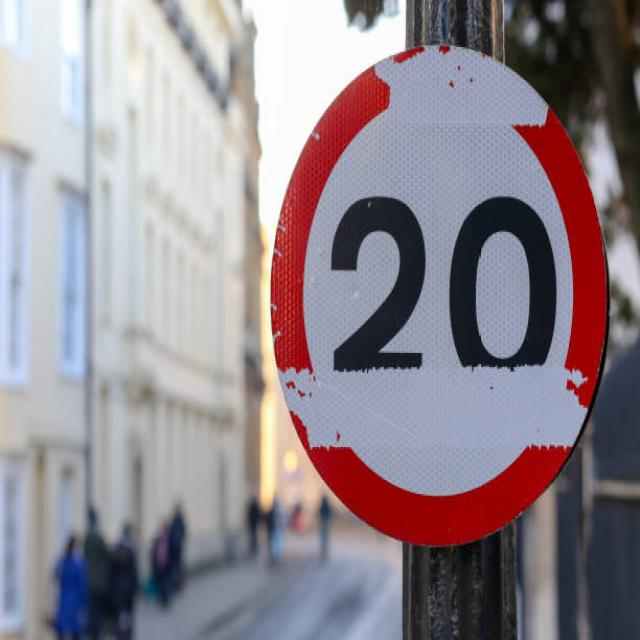speed_limit_20: (266, 38, 609, 551)
